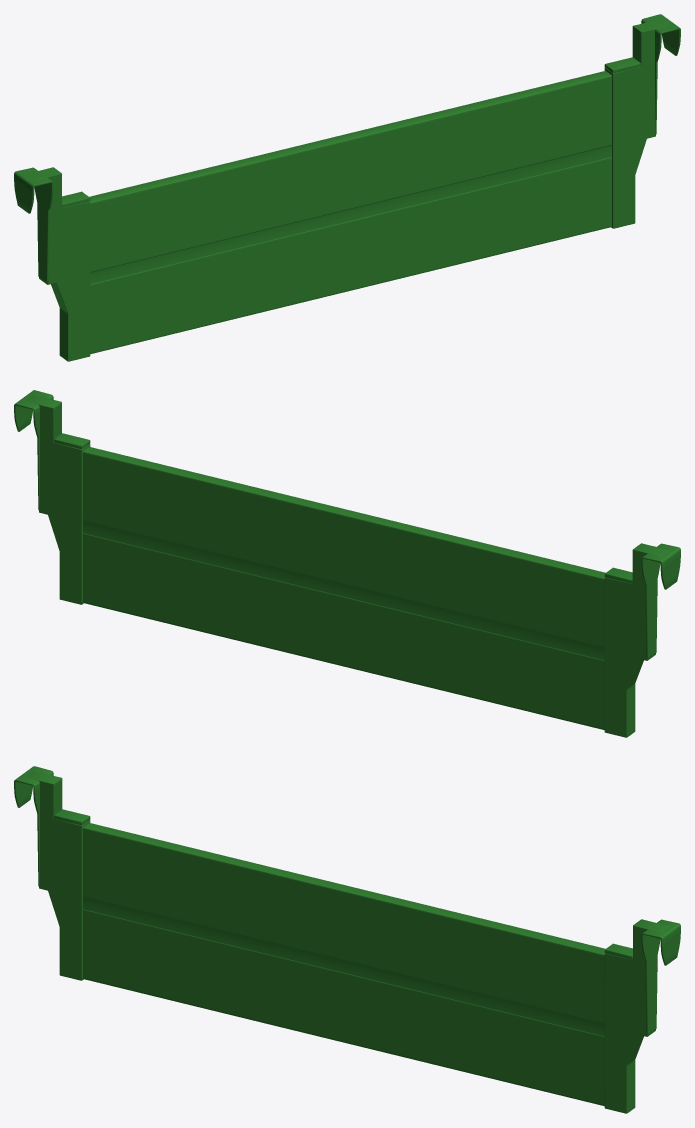
The model's file is SM_Drawer_Divider_01.fbx.
3 renders of one model, top to bottom at view 1: azimuth 30°, elevation 25°; view 2: azimuth 150°, elevation 25°; view 3: azimuth 330°, elevation 25°, orthographic.
Visible parts, largest first — view 1: SM_Drawer_Divider_01; view 2: SM_Drawer_Divider_01; view 3: SM_Drawer_Divider_01.
Part boxes in pixels (x1,y1,x2,y2): SM_Drawer_Divider_01: [14, 14, 680, 361]; SM_Drawer_Divider_01: [14, 390, 680, 737]; SM_Drawer_Divider_01: [14, 766, 680, 1113].
Bounding box in the file's own units: 55.49 × 15.55 × 2.81.
